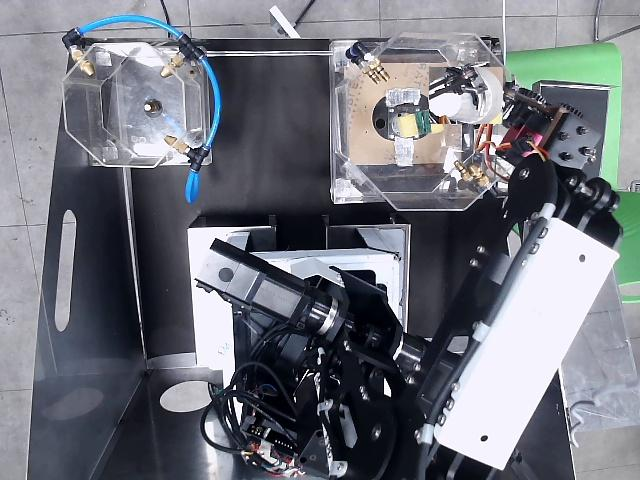cup: (429, 67, 503, 124)
